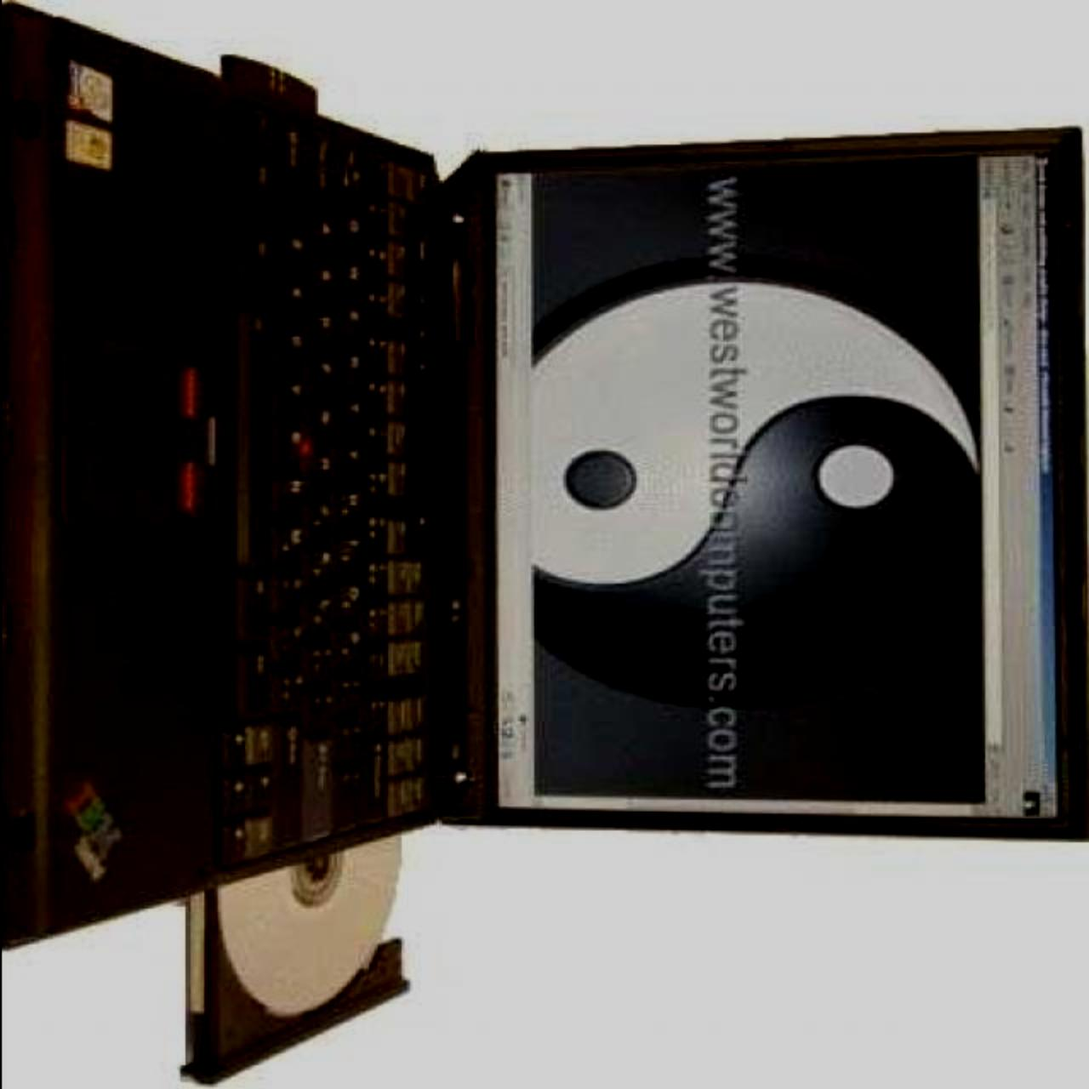laptop: (4, 139, 1071, 855)
